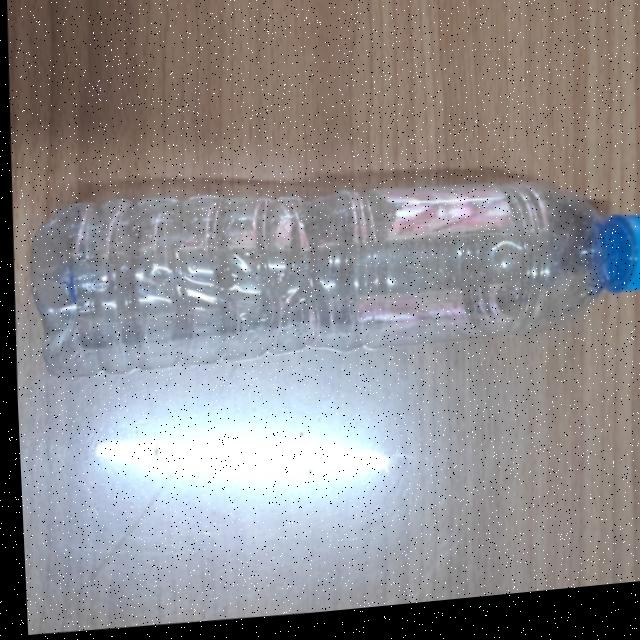bottle: (11, 139, 640, 405)
